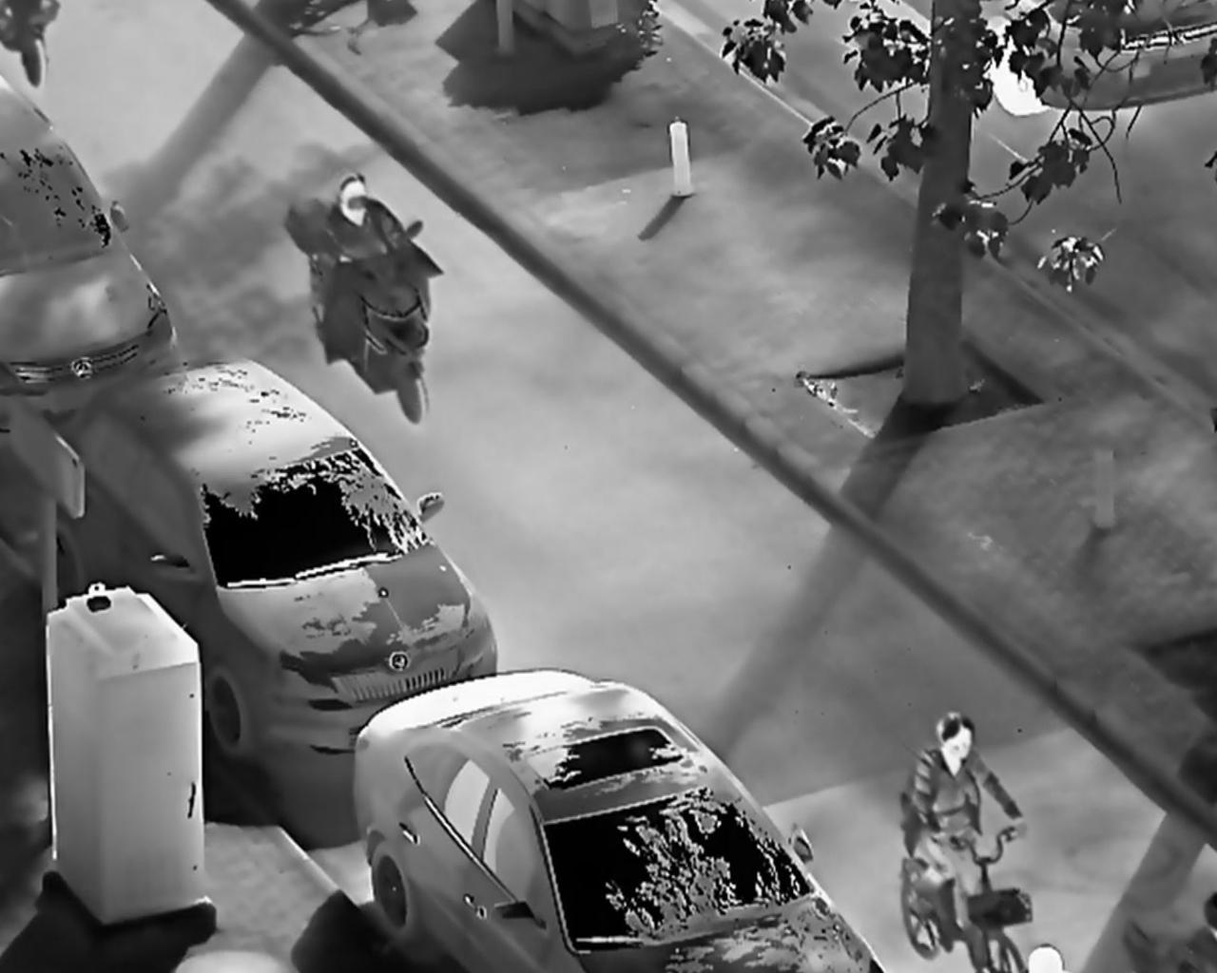person: (904, 704, 1033, 938), (300, 164, 437, 340)
